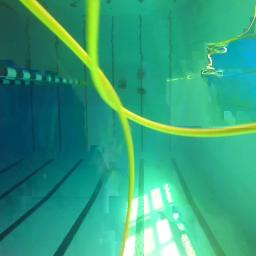Full: (118, 82, 128, 90), (137, 87, 147, 95)
